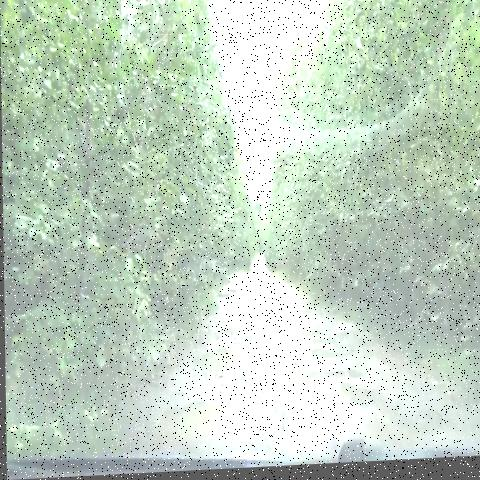pothole: (147, 389, 276, 467), (343, 382, 435, 446), (265, 345, 361, 398), (182, 342, 262, 388), (204, 317, 258, 349), (308, 336, 343, 368), (271, 303, 312, 327), (300, 318, 325, 345), (225, 299, 246, 318), (223, 290, 239, 309)
